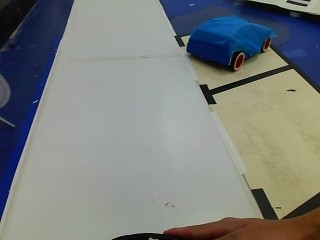car: (184, 15, 275, 76)
